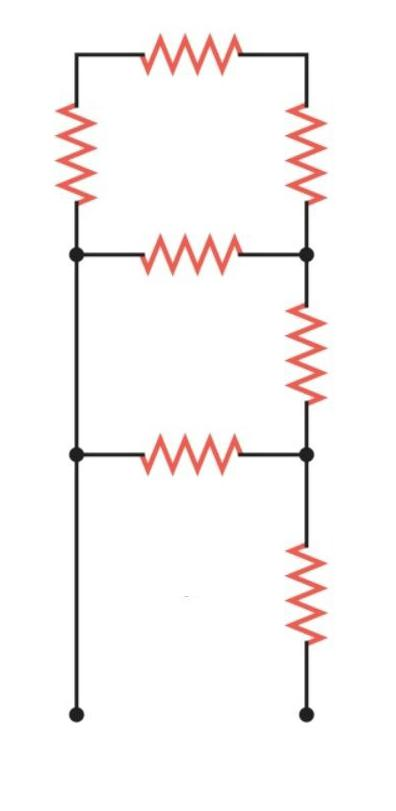resistor: (247, 520, 353, 687), (35, 79, 118, 221), (272, 279, 351, 421), (116, 211, 254, 290), (133, 9, 269, 79), (122, 419, 254, 485), (272, 83, 340, 208)
